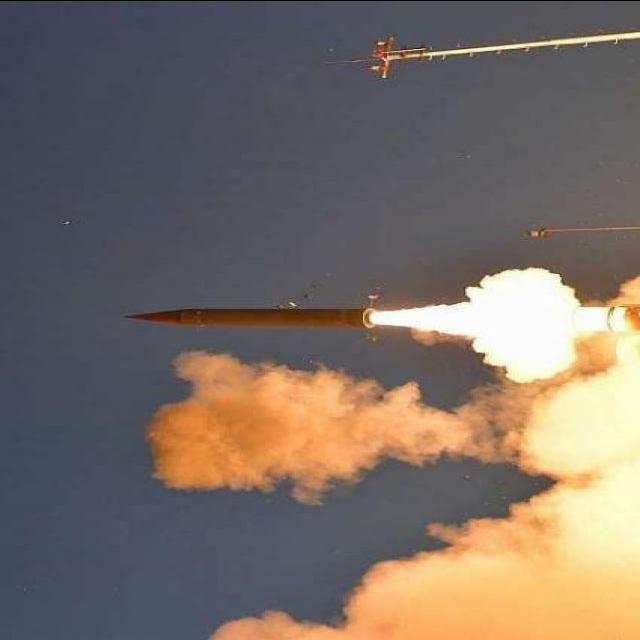missile: (126, 302, 378, 338)
